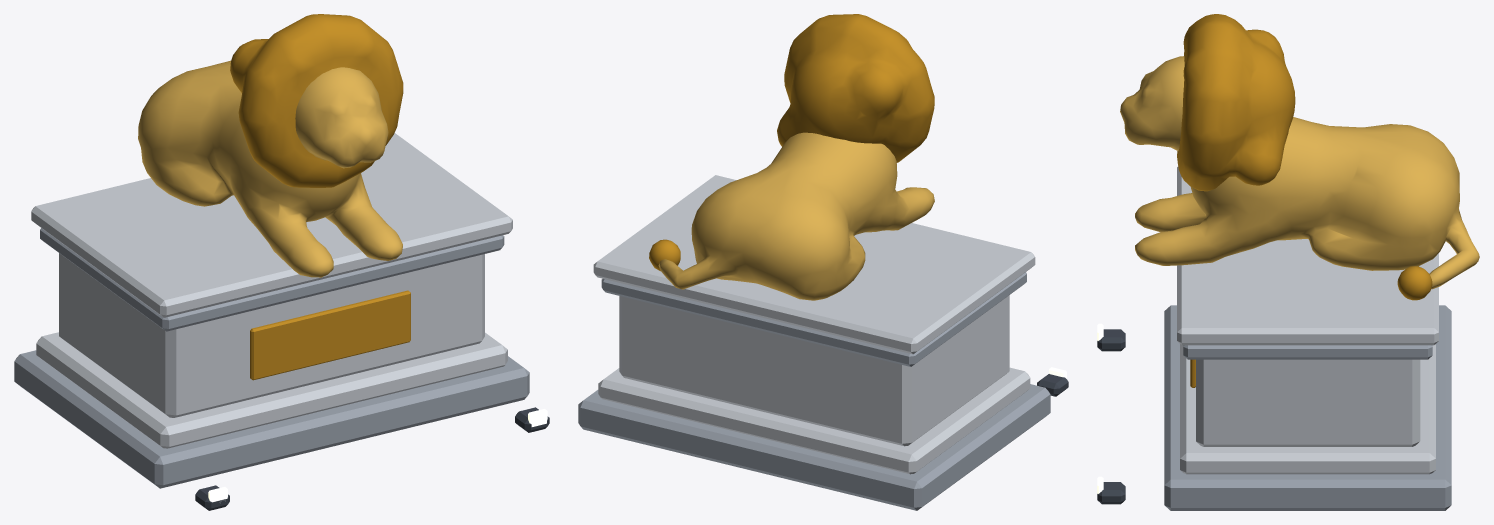
File: estatua_leao.glb
3 renders of one model, left to right at view 1: azimuth 30°, elevation 25°; view 2: azimuth 150°, elevation 25°; view 3: azimuth 270°, elevation 25°, orthographic. The views are drawn at different scales.
Visible parts, largest first — view 1: estatua_leao; view 2: estatua_leao; view 3: estatua_leao.
Part boxes in pixels (x1,y1,x2,y2): estatua_leao: (14,14,549,510); estatua_leao: (578,14,1068,510); estatua_leao: (1097,14,1479,510).
Size of the model in its own units: 2.7 by 2.82 by 2.43.
Materials: 2 (1 with a texture image).
